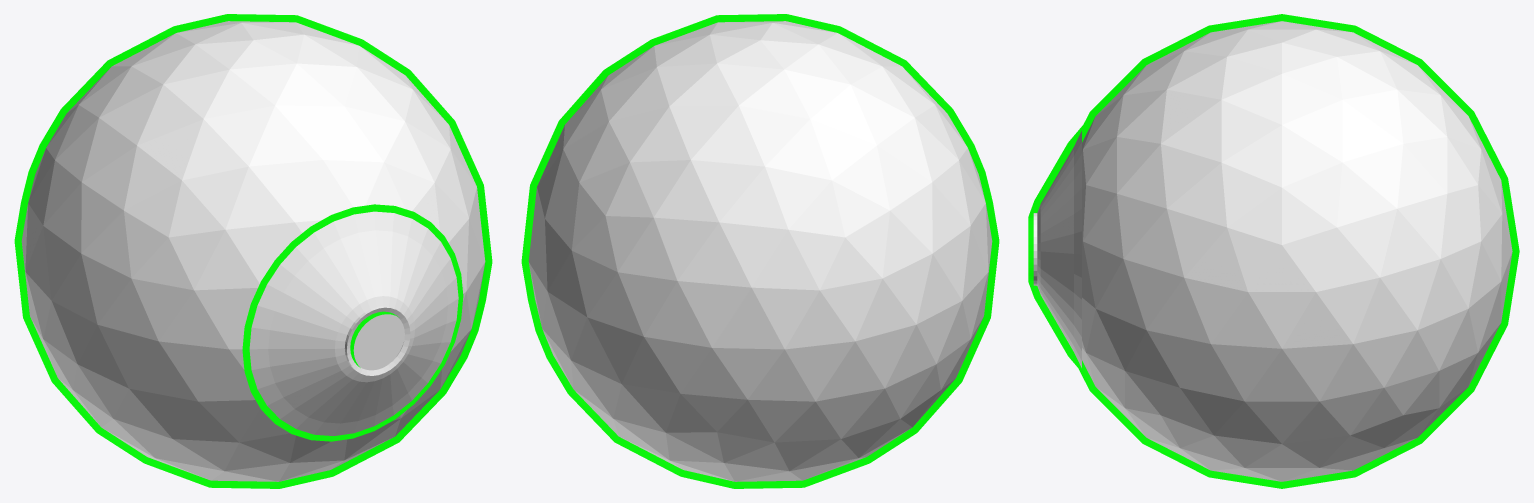
Rendered from eye.gltf.
3 renders of one model, left to right at view 1: azimuth 30°, elevation 25°; view 2: azimuth 150°, elevation 25°; view 3: azimuth 270°, elevation 25°, orthographic.
Parts seen in each view (by area): view 1: Eye; view 2: Eye; view 3: Eye.
Part boxes in pixels (box(x1,y1,x2,y2)): Eye: box(14, 14, 492, 488); Eye: box(521, 14, 999, 488); Eye: box(1028, 14, 1519, 488).
Size of the model in its own units: 62.78 by 62.78 by 64.93.
